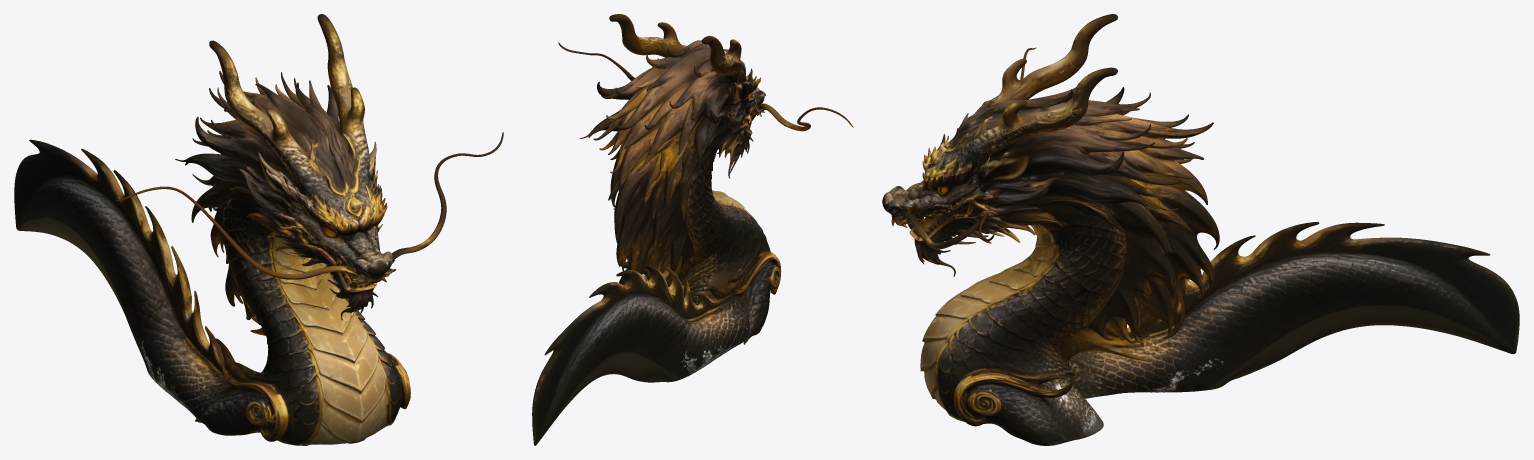
Rendered from ji-meng.glb.
3 renders of one model, left to right at view 1: azimuth 30°, elevation 25°; view 2: azimuth 150°, elevation 25°; view 3: azimuth 270°, elevation 25°, orthographic. The views are drawn at different scales.
Visible parts, largest first — view 1: node_0; view 2: node_0; view 3: node_0.
Part boxes in pixels (x1,y1,x2,y2): node_0: (14,14,503,445); node_0: (532,14,853,445); node_0: (882,14,1519,445).
Bounding box in the file's own units: 0.7142 × 0.673 × 1.06.
1 material, 1 textured.
